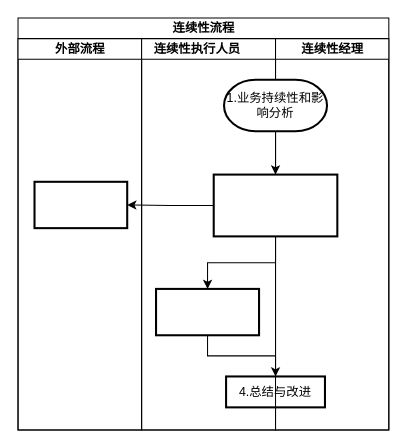
Some shapes in this 407 by 448 pixel diagram are drawn without their labels. Each missing label, with the centre of its shape:
2.制订业务持续性管理实施计划: the point at 275,205
3.实施连续性管理计划: the point at 207,311
服务级别管理: the point at 80,204
